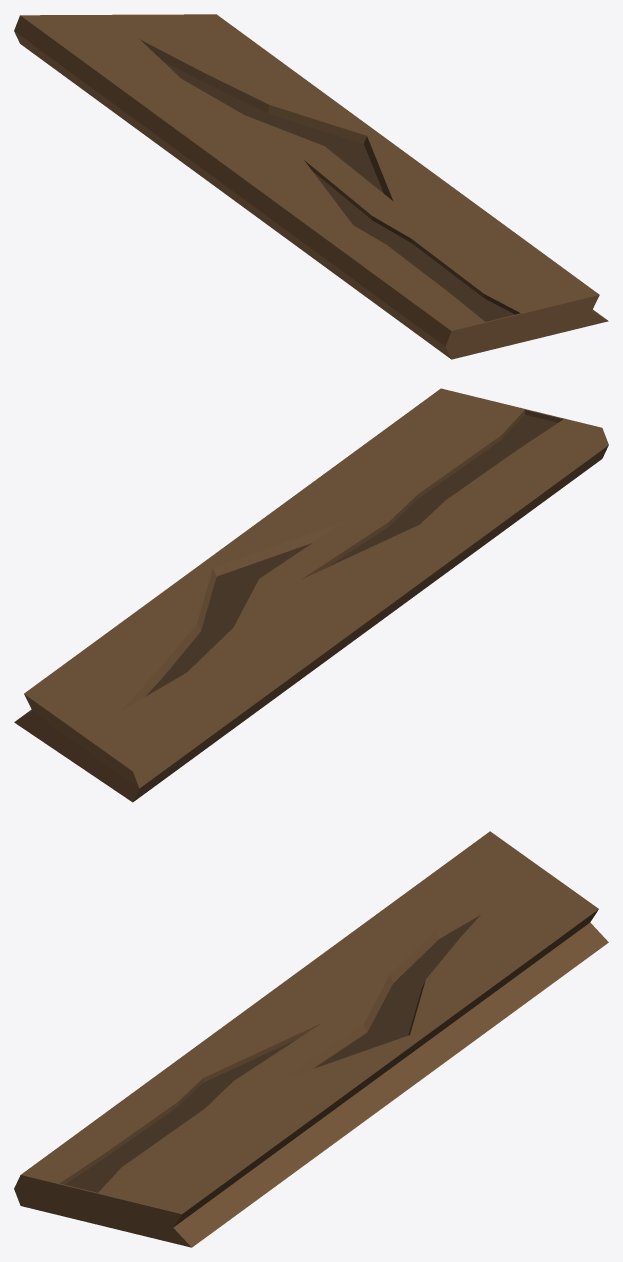
File: Plank_Decoration_2.fbx
3 renders of one model, top to bottom at view 1: azimuth 30°, elevation 25°; view 2: azimuth 150°, elevation 25°; view 3: azimuth 330°, elevation 25°, orthographic. The views are drawn at different scales.
Visible parts, largest first — view 1: Cube; view 2: Cube; view 3: Cube.
Part boxes in pixels (bbox=[...]): Cube: bbox=[14, 14, 608, 359]; Cube: bbox=[14, 388, 608, 802]; Cube: bbox=[14, 831, 608, 1247].
Bounding box in the file's own units: 162 × 27.05 × 741.
